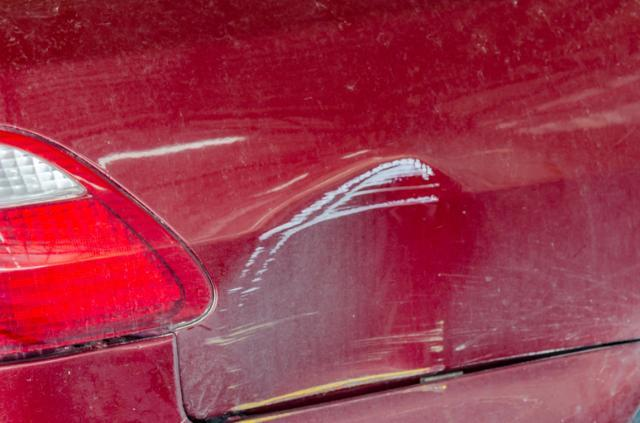Dickey: (191, 148, 488, 393)
